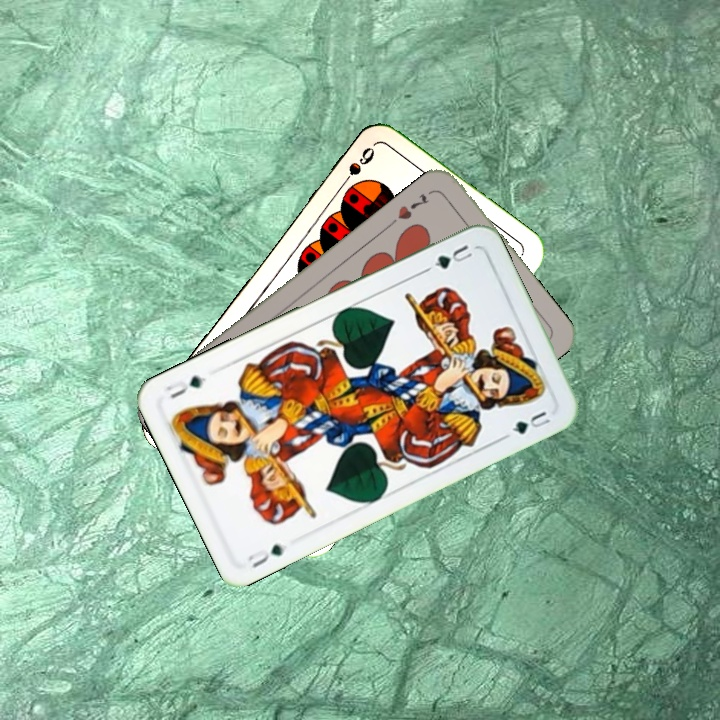GU: (421, 240, 475, 274), (243, 538, 290, 571)
H7: (386, 189, 432, 229)
S9: (335, 143, 378, 195)
